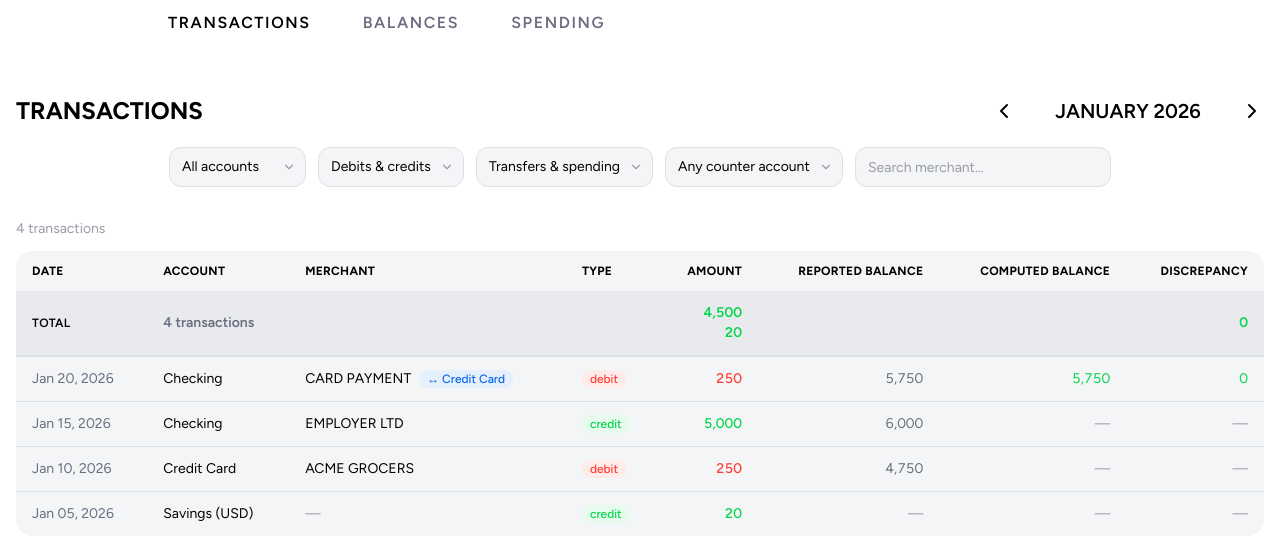
Test case: Transactions page › shows "Updating…" while a refetch runs over data already on screen
The image size is (1281, 553).
Expected: the text "4 transactions" is shown, top-left (16, 219), bottom-right (105, 239)
Select "Debits only" in the 2nd dropdown at (391, 167), box top-left (318, 147), bottom-right (464, 187)
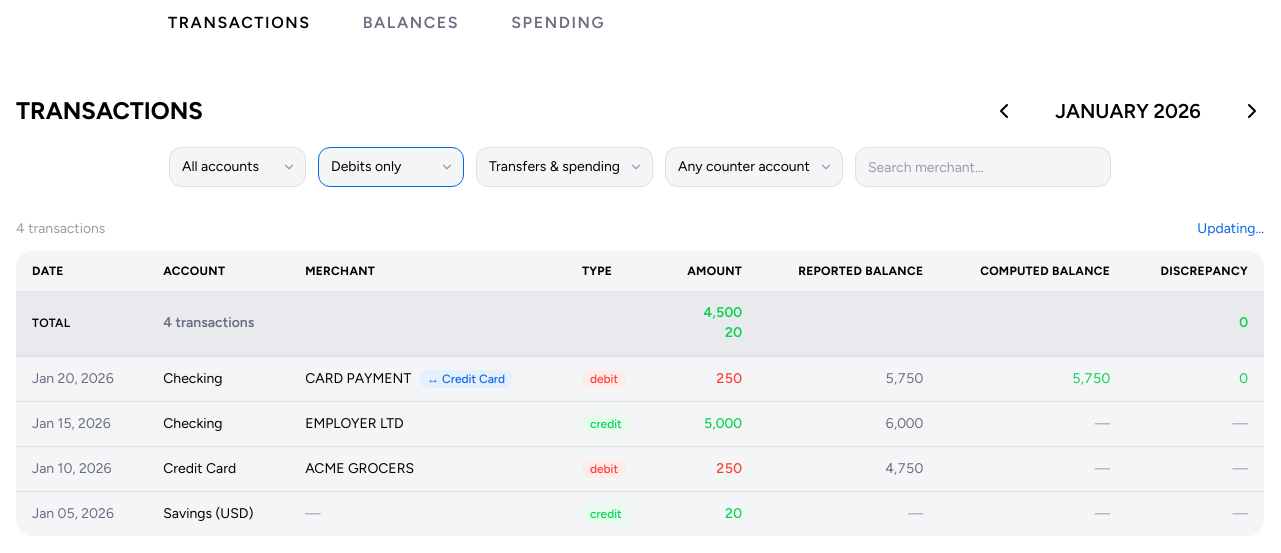
Expected: the text "4 transactions" is shown, top-left (16, 219), bottom-right (105, 239)
Expected: the text "Updating…" is shown, top-left (1197, 219), bottom-right (1264, 239)
